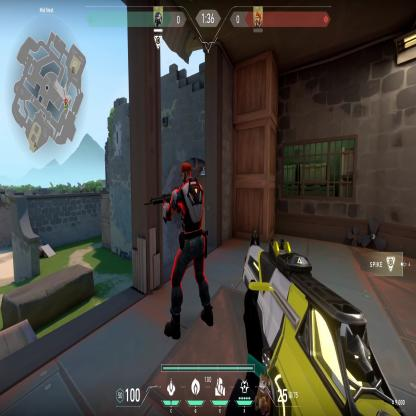enemy: (155, 159, 216, 345)
